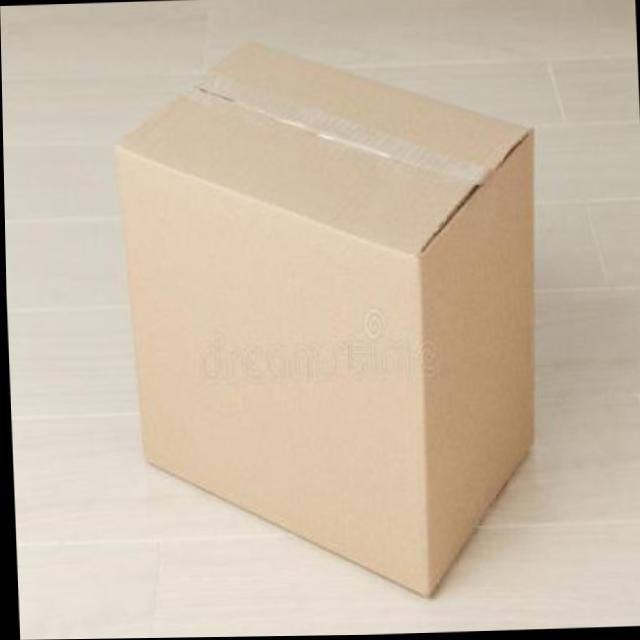box: (104, 15, 554, 630)
